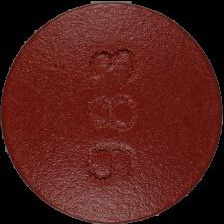0093-0983: (0, 0, 224, 224)
